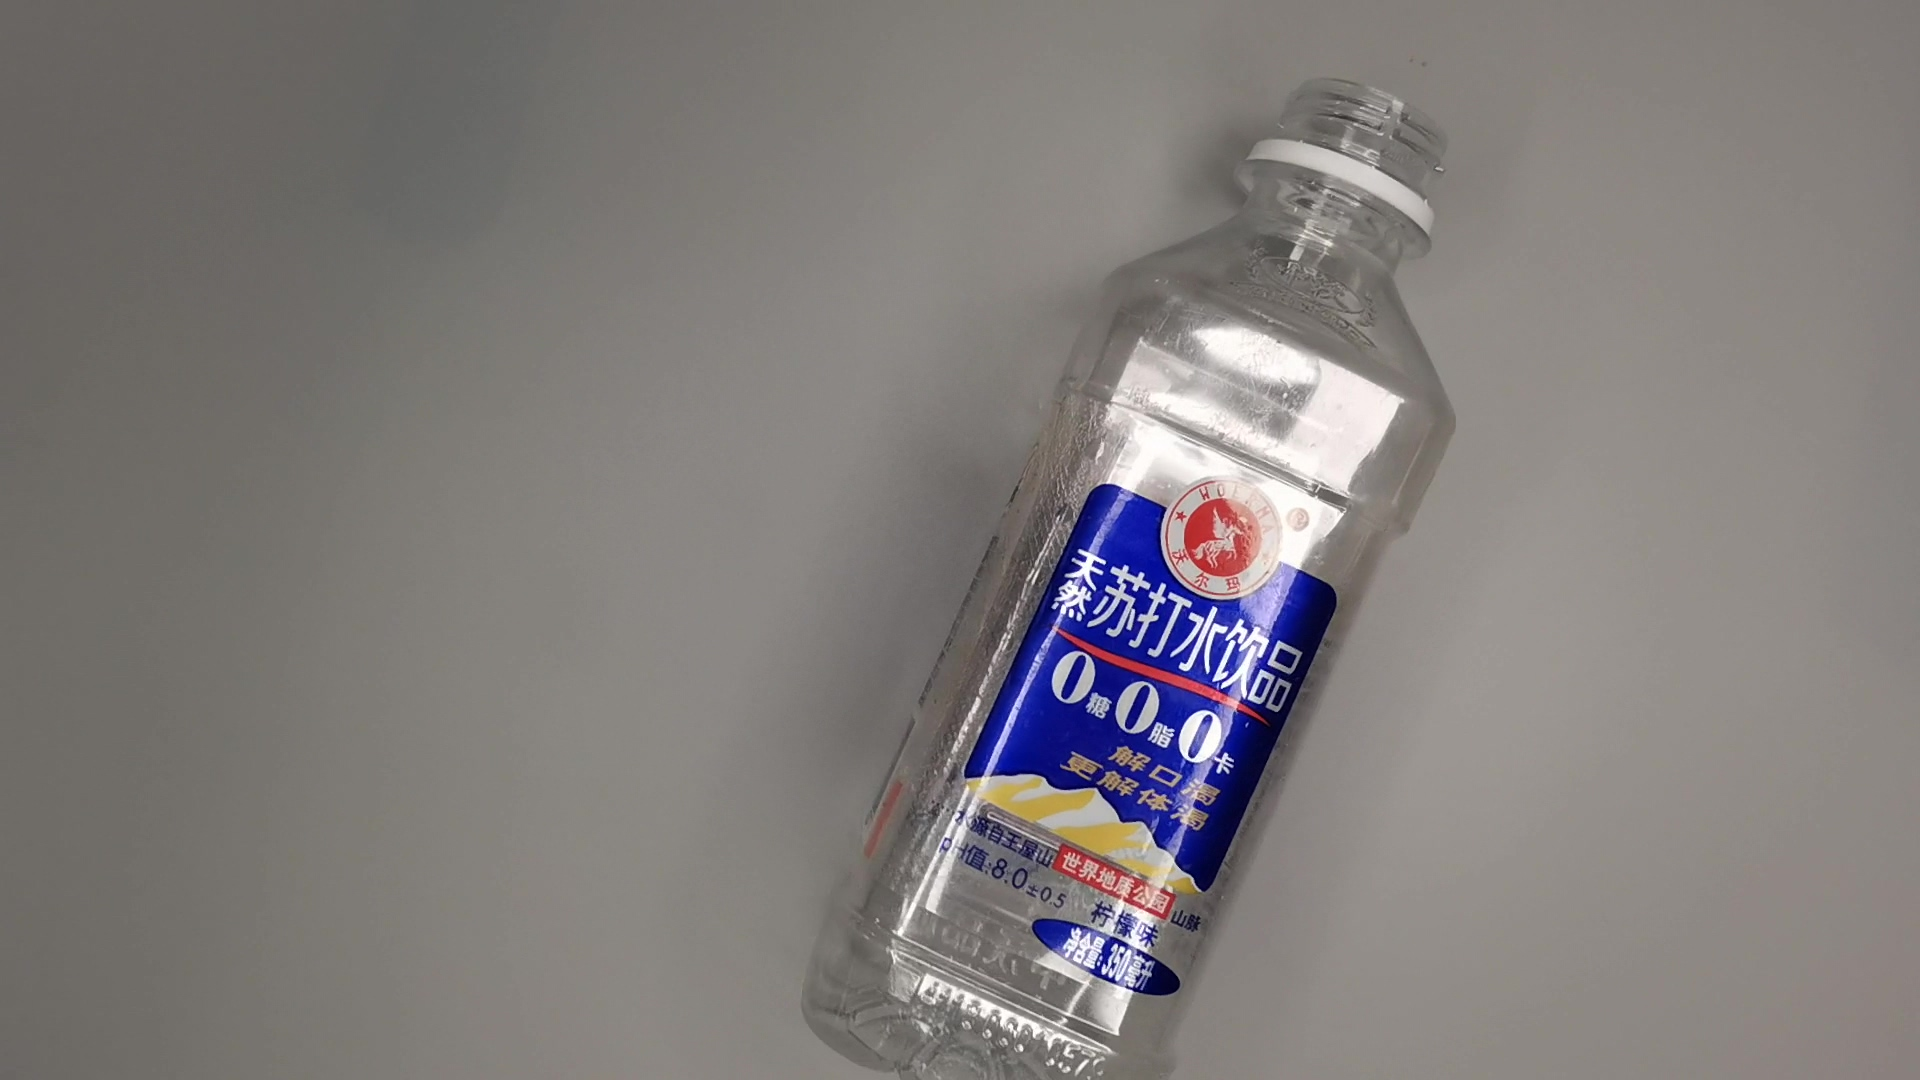bottle: (786, 67, 1462, 1080)
